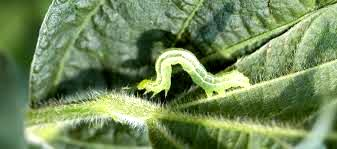Caterpillar: (139, 48, 252, 100)
